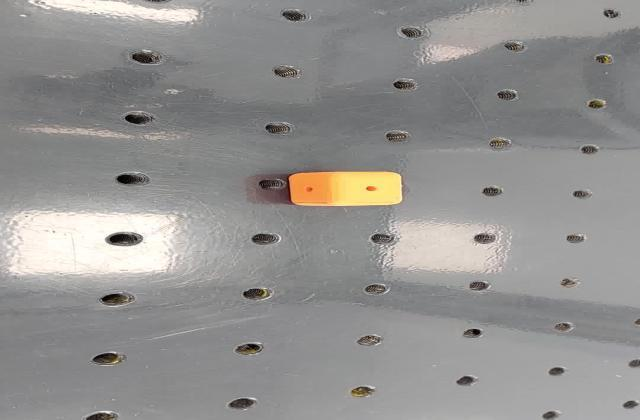cube: (284, 170, 408, 210)
